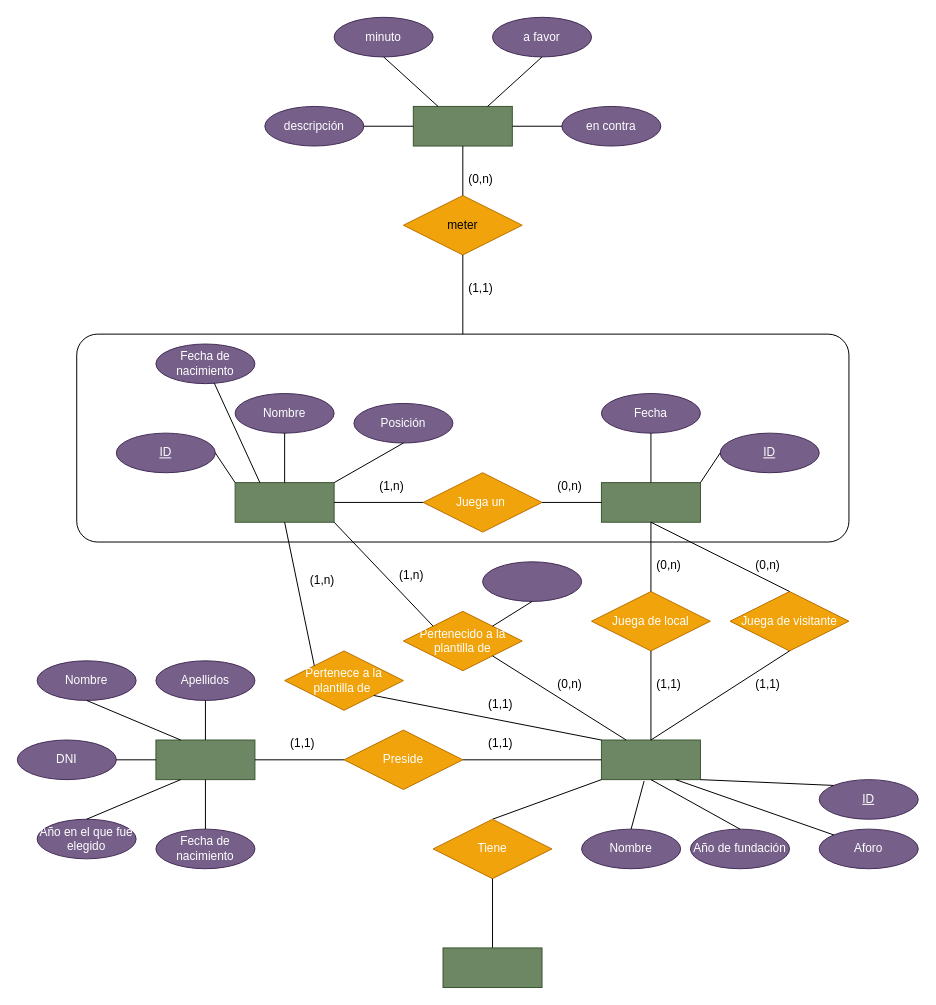
Some shapes in this 936 by 1005 pixel diagram are drawn without their labels. The centre of each missing label's shape, as x and y in pixels:
Equipo: (x=650, y=759)
Estadio: (x=492, y=967)
fechas: (x=532, y=581)
Gol: (x=462, y=125)
Jugador: (x=284, y=502)
Partido: (x=650, y=502)
Presidente: (x=205, y=759)
